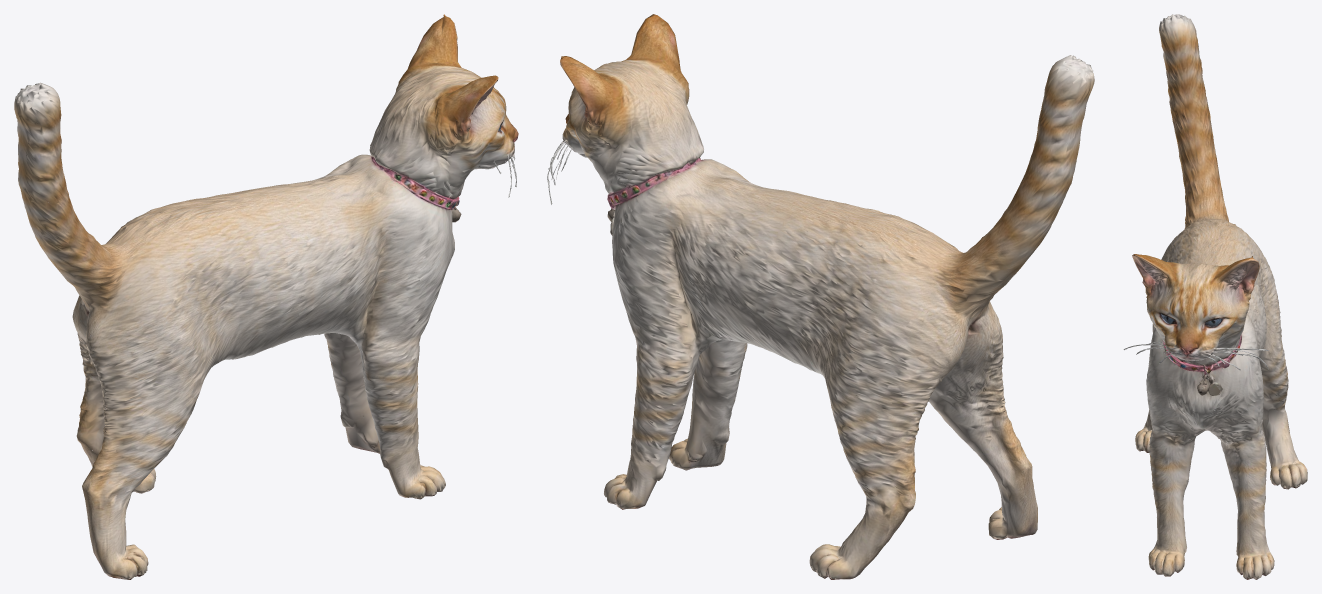
File: PEEPEECAT.glb
3 renders of one model, left to right at view 1: azimuth 30°, elevation 25°; view 2: azimuth 150°, elevation 25°; view 3: azimuth 270°, elevation 25°, orthographic. The views are drawn at different scales.
Parts seen in each view (by area): view 1: tripo_node_67f9d5d1-6ebe-4fbc-8735-96dff5f89d53; view 2: tripo_node_67f9d5d1-6ebe-4fbc-8735-96dff5f89d53; view 3: tripo_node_67f9d5d1-6ebe-4fbc-8735-96dff5f89d53.
Part boxes in pixels (bbox=[...]): tripo_node_67f9d5d1-6ebe-4fbc-8735-96dff5f89d53: bbox=[14, 14, 518, 579]; tripo_node_67f9d5d1-6ebe-4fbc-8735-96dff5f89d53: bbox=[547, 14, 1094, 579]; tripo_node_67f9d5d1-6ebe-4fbc-8735-96dff5f89d53: bbox=[1123, 14, 1307, 579].
Bounding box in the file's own units: 1.07 × 0.9985 × 0.4112.
1 material, 1 textured.
